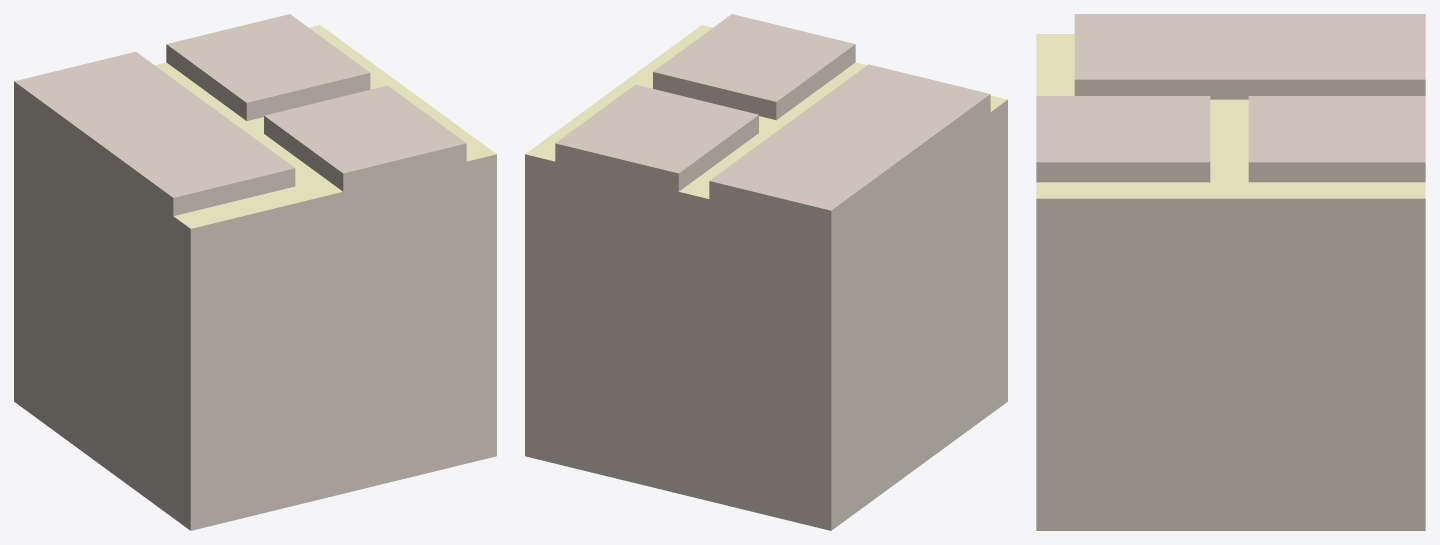
Rendered from wall_2.glb.
The picture shows the model from 3 angles, left to right: view 1: azimuth 30°, elevation 25°; view 2: azimuth 150°, elevation 25°; view 3: azimuth 270°, elevation 25°; orthographic projection. The views are drawn at different scales.
Parts seen in each view (by area): view 1: wall_2; view 2: wall_2; view 3: wall_2.
Part boxes in pixels (box(x1,y1,x2,y2)): wall_2: box(14, 14, 496, 530); wall_2: box(525, 14, 1007, 530); wall_2: box(1036, 14, 1425, 530).
Bounding box in the file's own units: 1 × 0.9998 × 1.
Materials: 1 (1 with a texture image).
